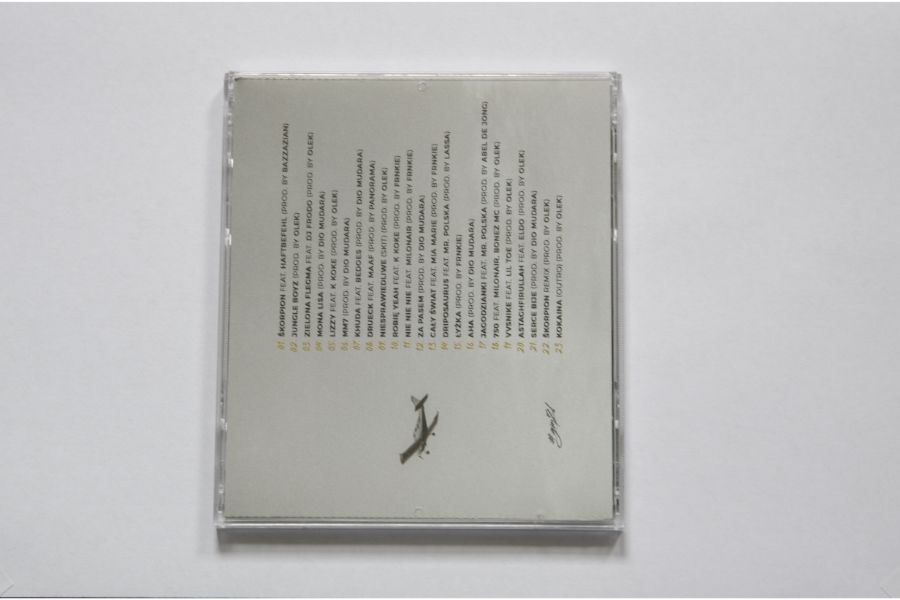album: (212, 68, 623, 532)
